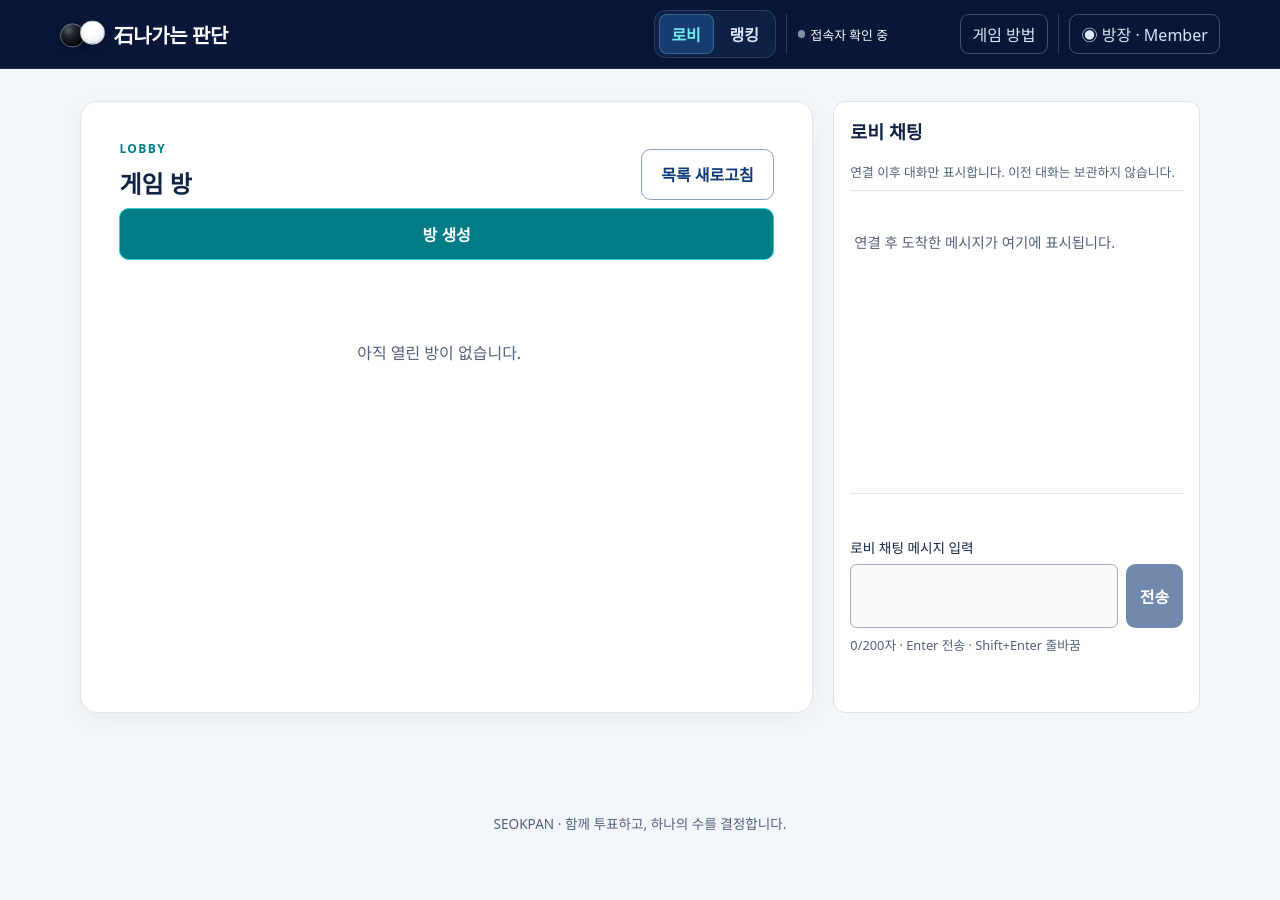
room HTTP and receive-only connection integration › creates a public room and enters confirmed participation
The width and height of the screenshot is (1280, 900).
Click the button "방 생성" at (447, 234), box [119,208,774,260]
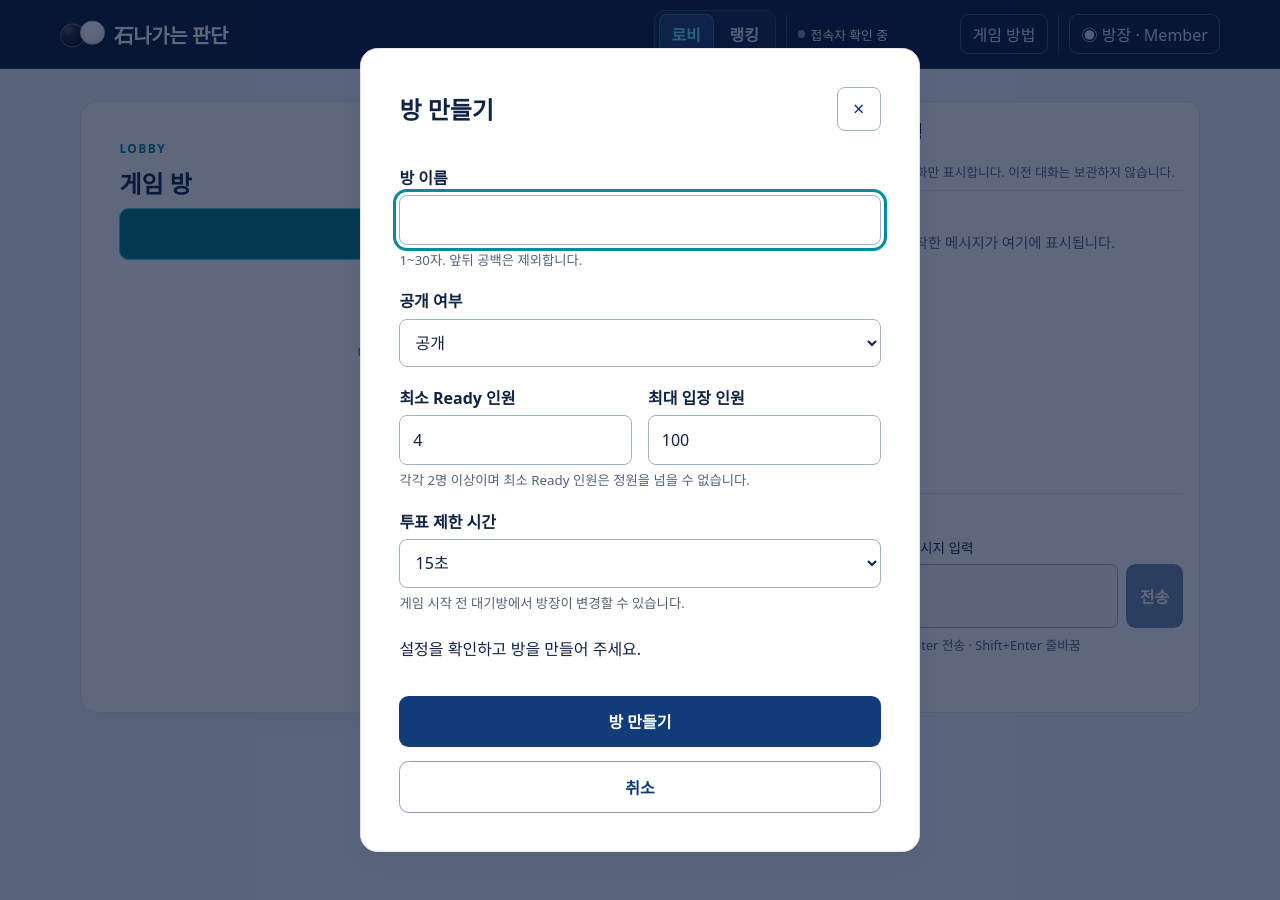
Type "같이 둘까요" into the field labelled "방 이름" at (640, 220), box [399,195,881,244]
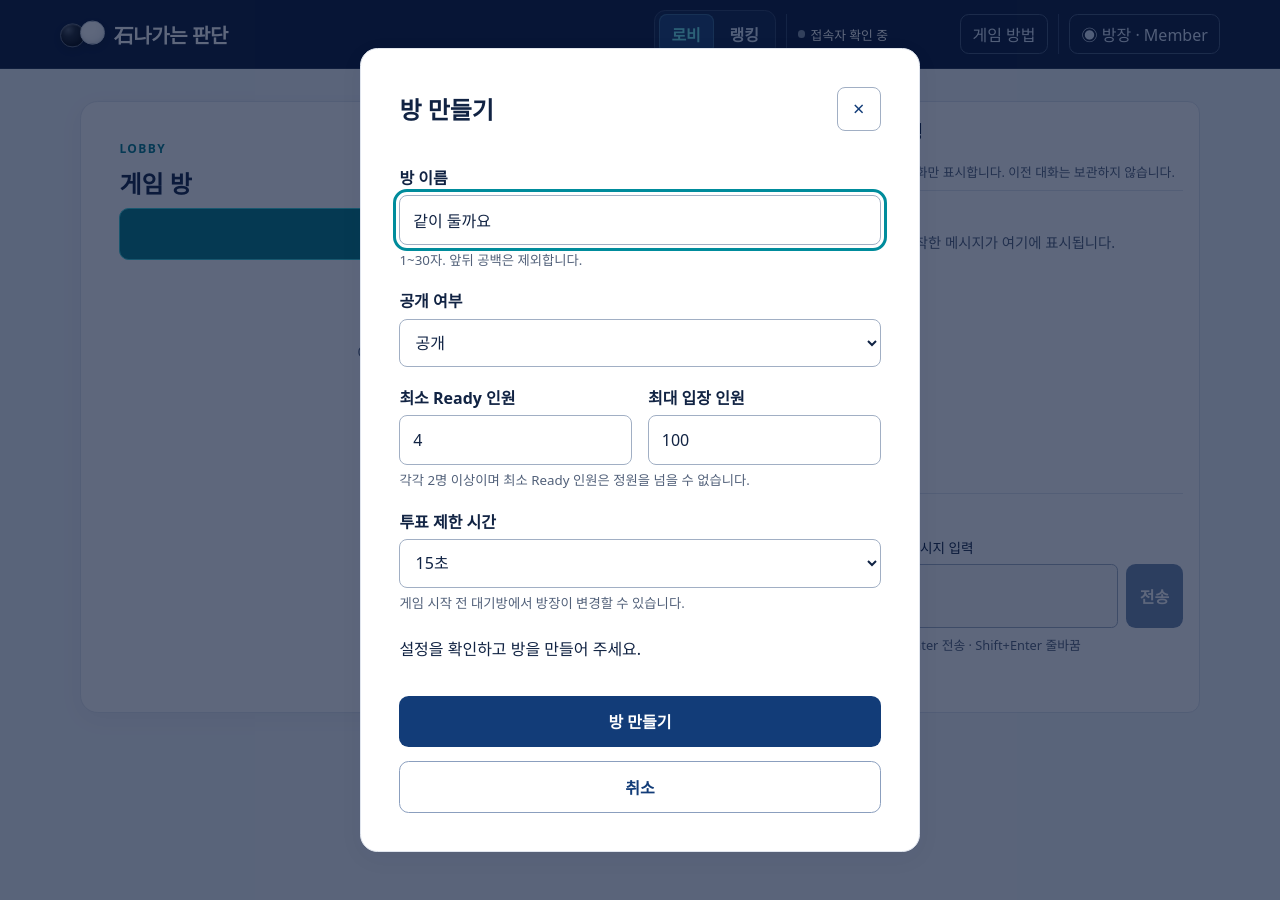
Click the button "방 만들기" at (640, 721), box [399,696,881,747]
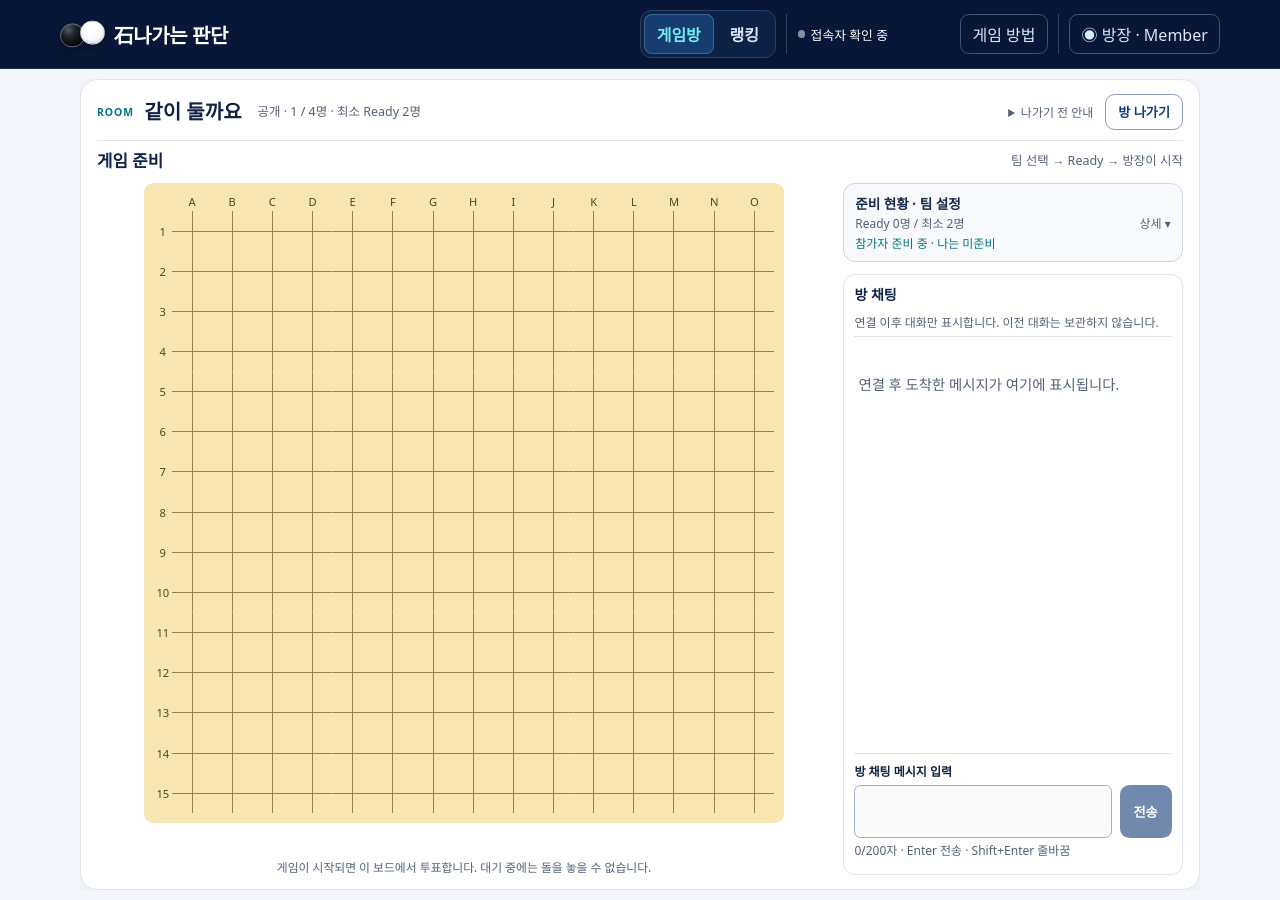
Now the heading "같이 둘까요" is shown, box [144,99,242,125]
